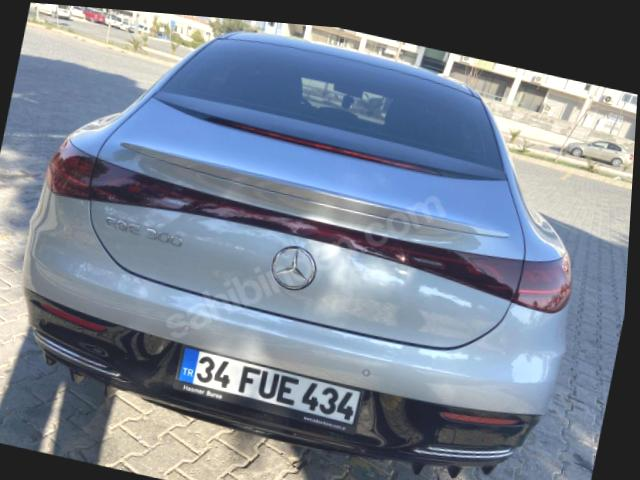plaka: (176, 348, 362, 425)
